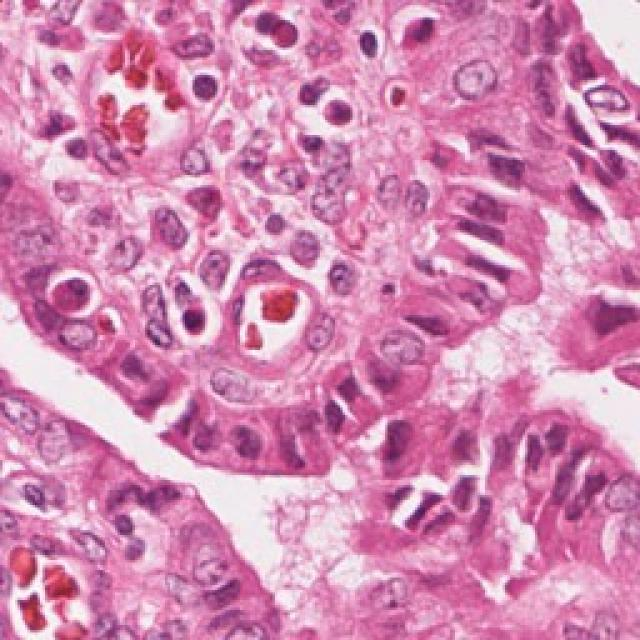abnormal: (425, 47, 525, 110), (25, 390, 92, 478), (180, 520, 248, 605), (360, 315, 437, 380), (571, 71, 640, 136), (8, 215, 68, 280), (185, 387, 228, 475), (82, 225, 146, 282), (50, 308, 115, 360), (187, 250, 253, 300), (320, 262, 377, 318), (148, 203, 200, 262), (303, 173, 350, 237), (220, 415, 260, 482)
